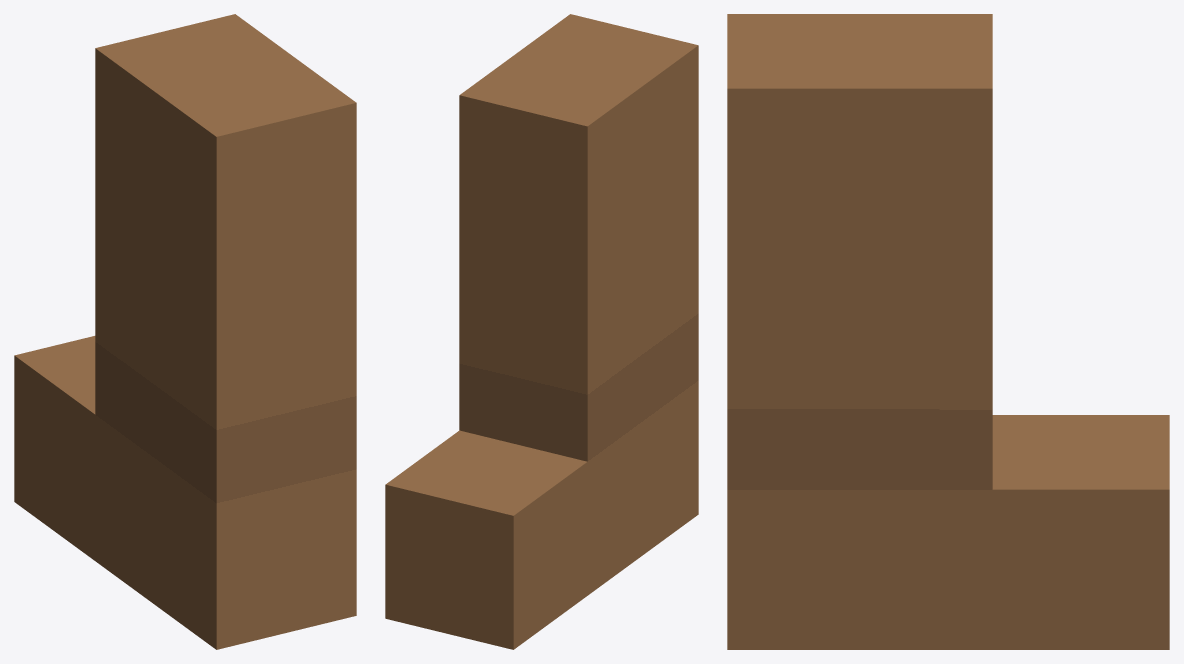
File: mob_homo_sapien_leg_left.dae
3 views of the same model, side by side, from view 1: azimuth 30°, elevation 25°; view 2: azimuth 150°, elevation 25°; view 3: azimuth 270°, elevation 25° (orthographic). The views are drawn at different scales.
Visible parts, largest first — view 1: mob_homo_sapien_leg_left; view 2: mob_homo_sapien_leg_left; view 3: mob_homo_sapien_leg_left.
Boxes of the visible parts, x1=… form: mob_homo_sapien_leg_left: x1=14, y1=14, x2=356, y2=649; mob_homo_sapien_leg_left: x1=385, y1=14, x2=698, y2=649; mob_homo_sapien_leg_left: x1=727, y1=14, x2=1169, y2=649.
Size of the model in its own units: 0.2 by 0.5 by 0.7.
Materials: 1 (1 with a texture image).
